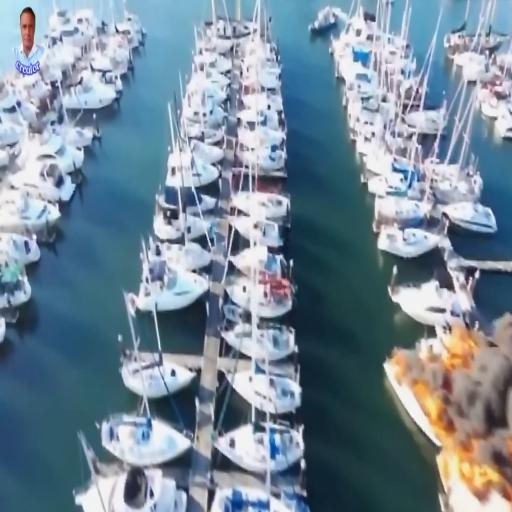fire: (435, 441, 500, 492), (415, 366, 444, 430)
